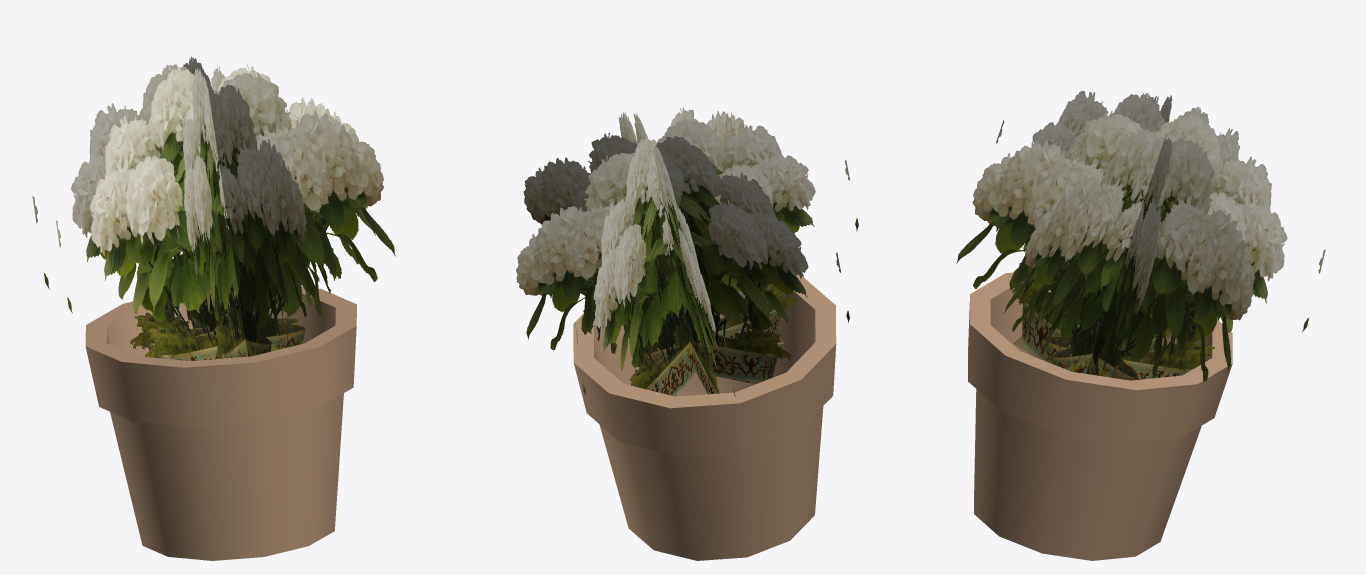
Rendered from flowerPot.fbx.
3 renders of one model, left to right at view 1: azimuth 30°, elevation 25°; view 2: azimuth 150°, elevation 25°; view 3: azimuth 270°, elevation 25°, orthographic. The views are drawn at different scales.
Parts seen in each view (by area): view 1: polySurface40; view 2: polySurface40; view 3: polySurface40.
Boxes of the visible parts, x1,y1,x2,y2 form: polySurface40: [32, 57, 395, 560]; polySurface40: [516, 107, 858, 560]; polySurface40: [956, 90, 1325, 560].
Size of the model in its own units: 1.55 by 2.1 by 1.79.
